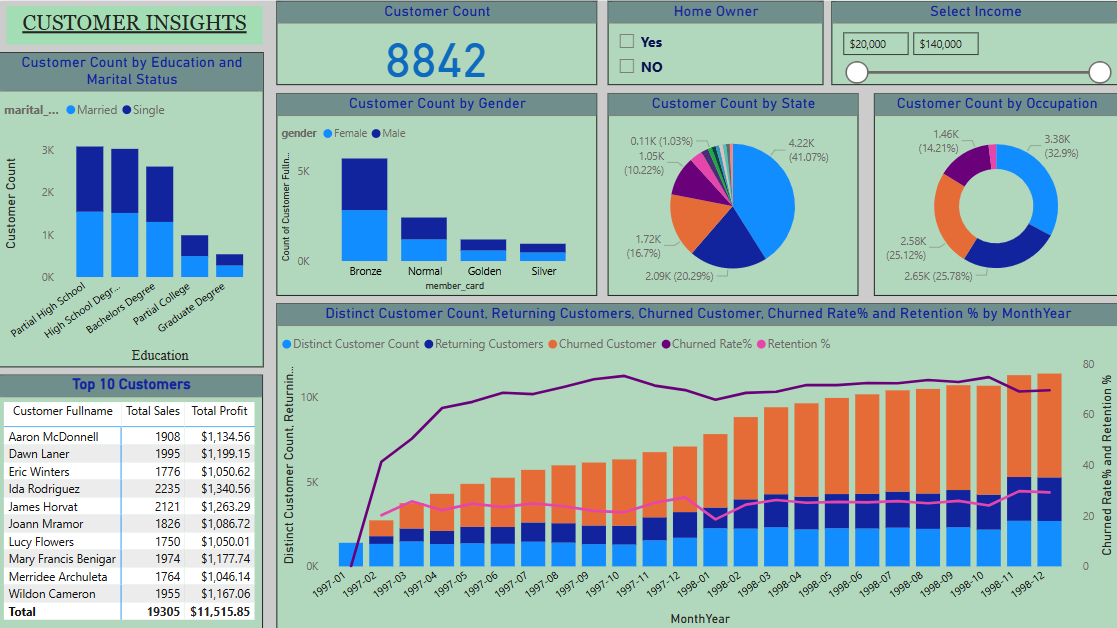

Layout of this report page (visuals, bound fields, positions):
{"tool":"powerbi","page":{"name":"Customer Insights","canvas":[1280,720],"ordinal":2},"visuals":[{"type":"columnChart","title":"Customer Count by Gender","fields":{"Category":["Customers.member_card"],"Y":["Customers.Customer Fullname"],"Series":["Customers.gender"]},"box":[317.5,106.2,366.2,231.2],"z":0},{"type":"columnChart","title":"Customer Count by Education and Marital Status","fields":{"Category":["Customers.education"],"Y":["Customers.Customer Fullname"],"Series":["Customers.marital_status"]},"box":[0,58.8,302.5,360],"z":1000},{"type":"donutChart","title":"Customer Count by Occupation","fields":{"Category":["Customers.occupation"],"Y":["Customers.Customer Fullname"]},"box":[1000,106.2,280,231.2],"z":2000},{"type":"pieChart","title":"Customer Count by State","fields":{"Category":["Customers.customer_state_province"],"Y":["Customers.Customer Fullname"]},"box":[696.2,106.2,286.2,231.2],"z":3000},{"type":"pivotTable","title":"Top 10 Customers","fields":{"Rows":["Customers.Customer Fullname"],"Values":["Transactions _1997.Total Sales","Transactions _1997.Total Profit"]},"box":[0,427.5,301.2,292.5],"z":4000},{"type":"lineStackedColumnComboChart","fields":{"Category":["Calendar.MonthYear"],"Y2":["Calendar.Churned Rate%","Calendar.Retention %"],"Y":["Calendar.Distinct Customer Count","Calendar.Returning Customers","Calendar.Churned Customer"]},"box":[317.5,346.2,962.5,373.8],"z":5000},{"type":"card","title":"Customer Count","fields":{"Values":["Calendar.Distinct Customer Count"]},"box":[317.5,0,366.2,96.2],"z":6000},{"type":"slicer","title":"Select Income","fields":{"Values":["Customers.Average Income"]},"box":[951.2,0,328.8,96.2],"z":7000},{"type":"slicer","title":"Home Owner","fields":{"Values":["Customers.homeowner"]},"box":[696.2,0,246.2,96.2],"z":8000},{"type":"textbox","box":[8.8,5,292.5,43.8],"z":9000}]}

Visuals, with their boxes in screenshot pixels (x1, y1, x2, y2), scaled from the page's 1280x720 canvas onto the 1117x628 screenshot:
"Customer Count by Gender" columnChart: (left=277, top=93, right=597, bottom=294)
"Customer Count by Education and Marital Status" columnChart: (left=0, top=51, right=264, bottom=365)
"Customer Count by Occupation" donutChart: (left=873, top=93, right=1116, bottom=294)
"Customer Count by State" pieChart: (left=608, top=93, right=857, bottom=294)
"Top 10 Customers" pivotTable: (left=0, top=373, right=263, bottom=627)
lineStackedColumnComboChart - Calendar.MonthYear x Calendar.Churned Rate%: (left=277, top=302, right=1116, bottom=627)
"Customer Count" card: (left=277, top=0, right=597, bottom=84)
"Select Income" slicer: (left=830, top=0, right=1116, bottom=84)
"Home Owner" slicer: (left=608, top=0, right=822, bottom=84)
textbox: (left=8, top=4, right=263, bottom=43)
